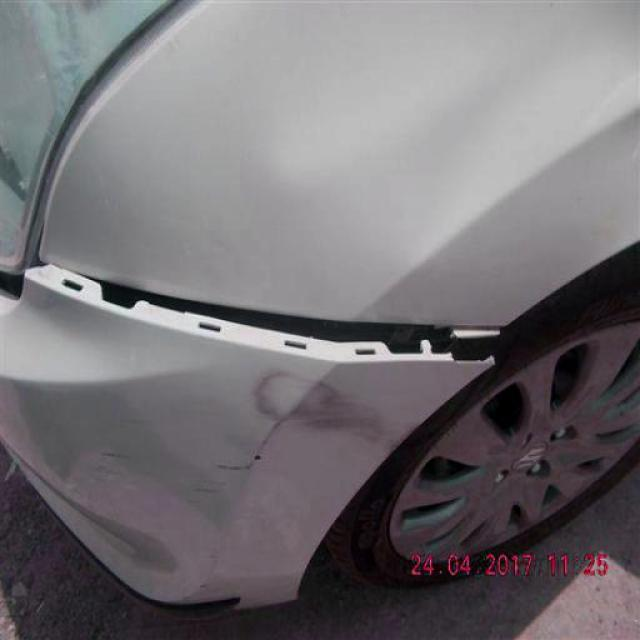car damage: (22, 251, 508, 364), (256, 367, 419, 452)
